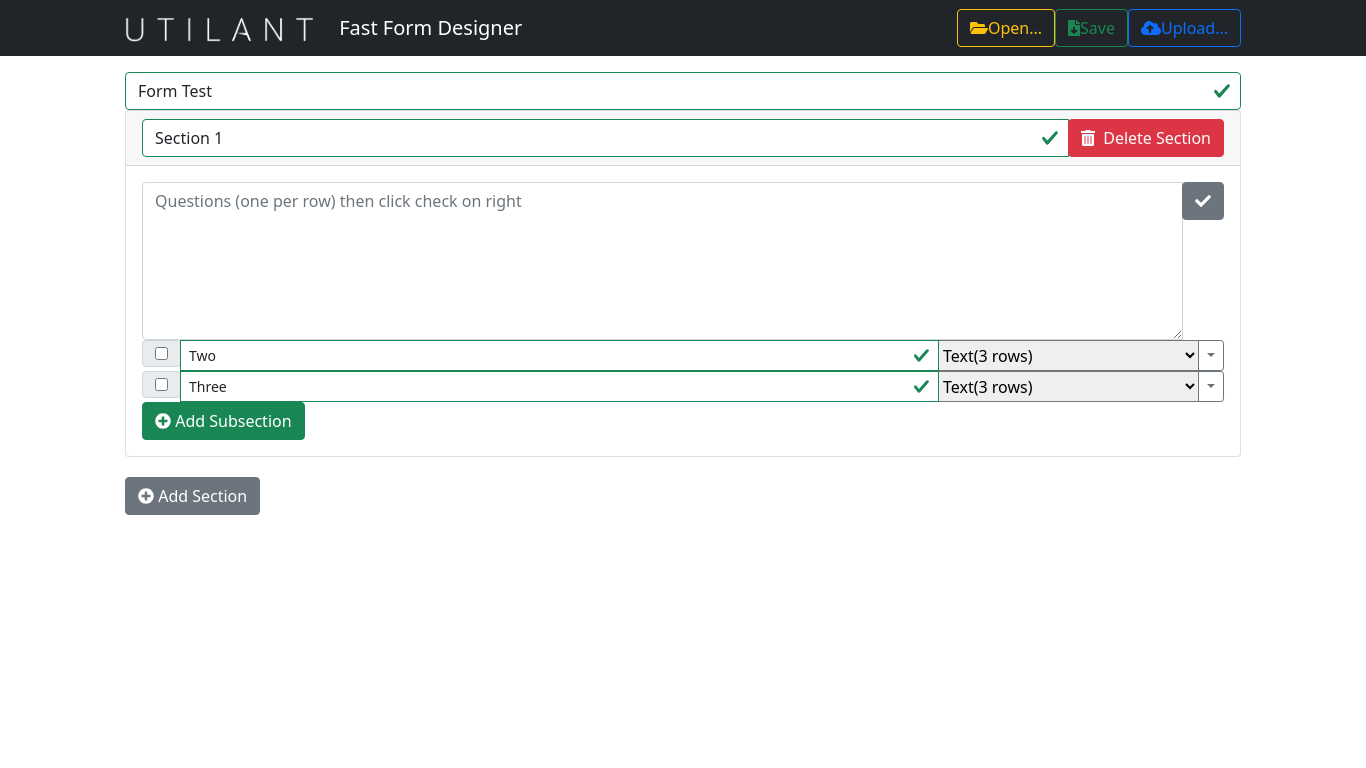
E2E testing of Fast Form Designer › Types question into textarea and converts to row after clicking check
Type "Four" into the text box with placeholder "Questions (one per row) then click check on right".
click(663, 261); type("Four")  # box left=142, top=182, right=1183, bottom=340
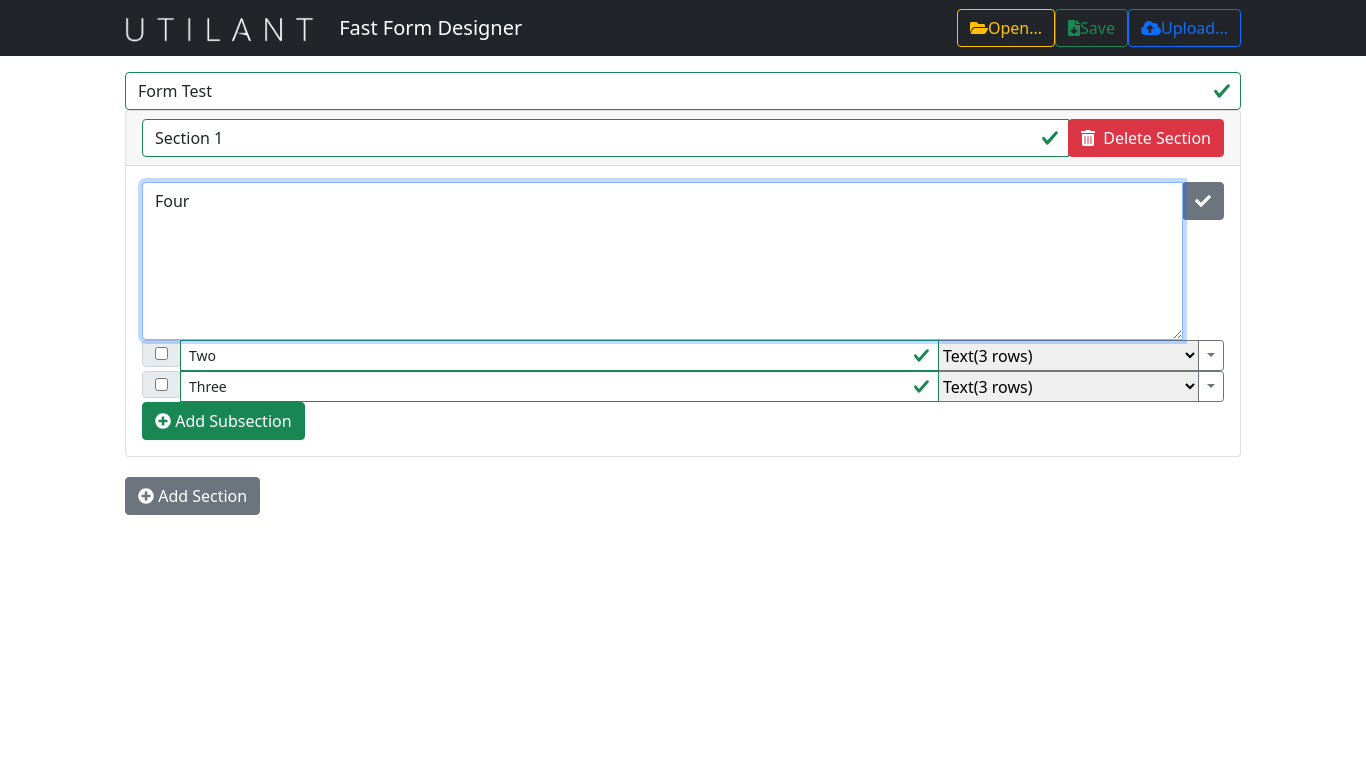
Click the button with class "check".
click(1203, 201)  # box left=1182, top=182, right=1224, bottom=220
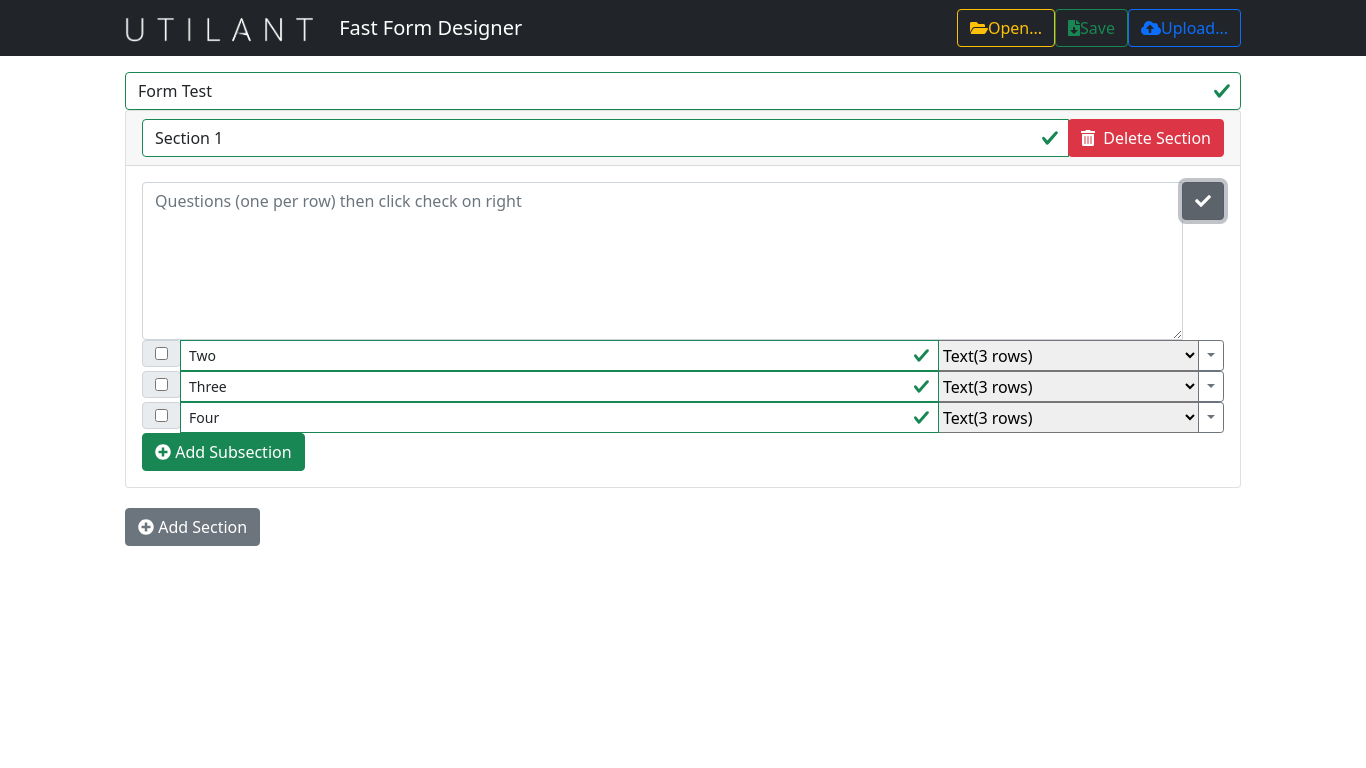
Check: the 3rd field with class "fifty-three" holds "Four", box left=180, top=402, right=939, bottom=433
